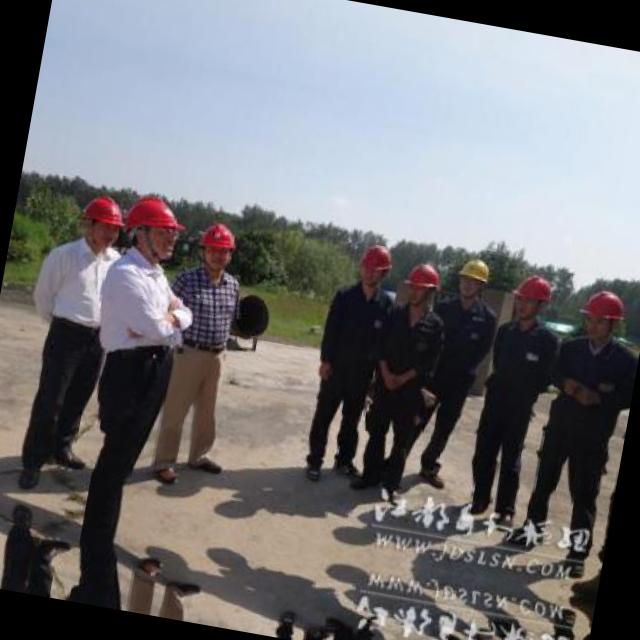helmet: (118, 190, 186, 264), (71, 187, 126, 253), (574, 283, 630, 347), (191, 216, 241, 275), (400, 256, 446, 314), (509, 268, 555, 326), (354, 237, 396, 294), (454, 252, 494, 301)
